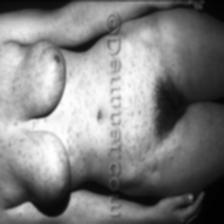Non-Cancerous Skin Condition: (0, 44, 94, 187), (121, 44, 203, 180)
